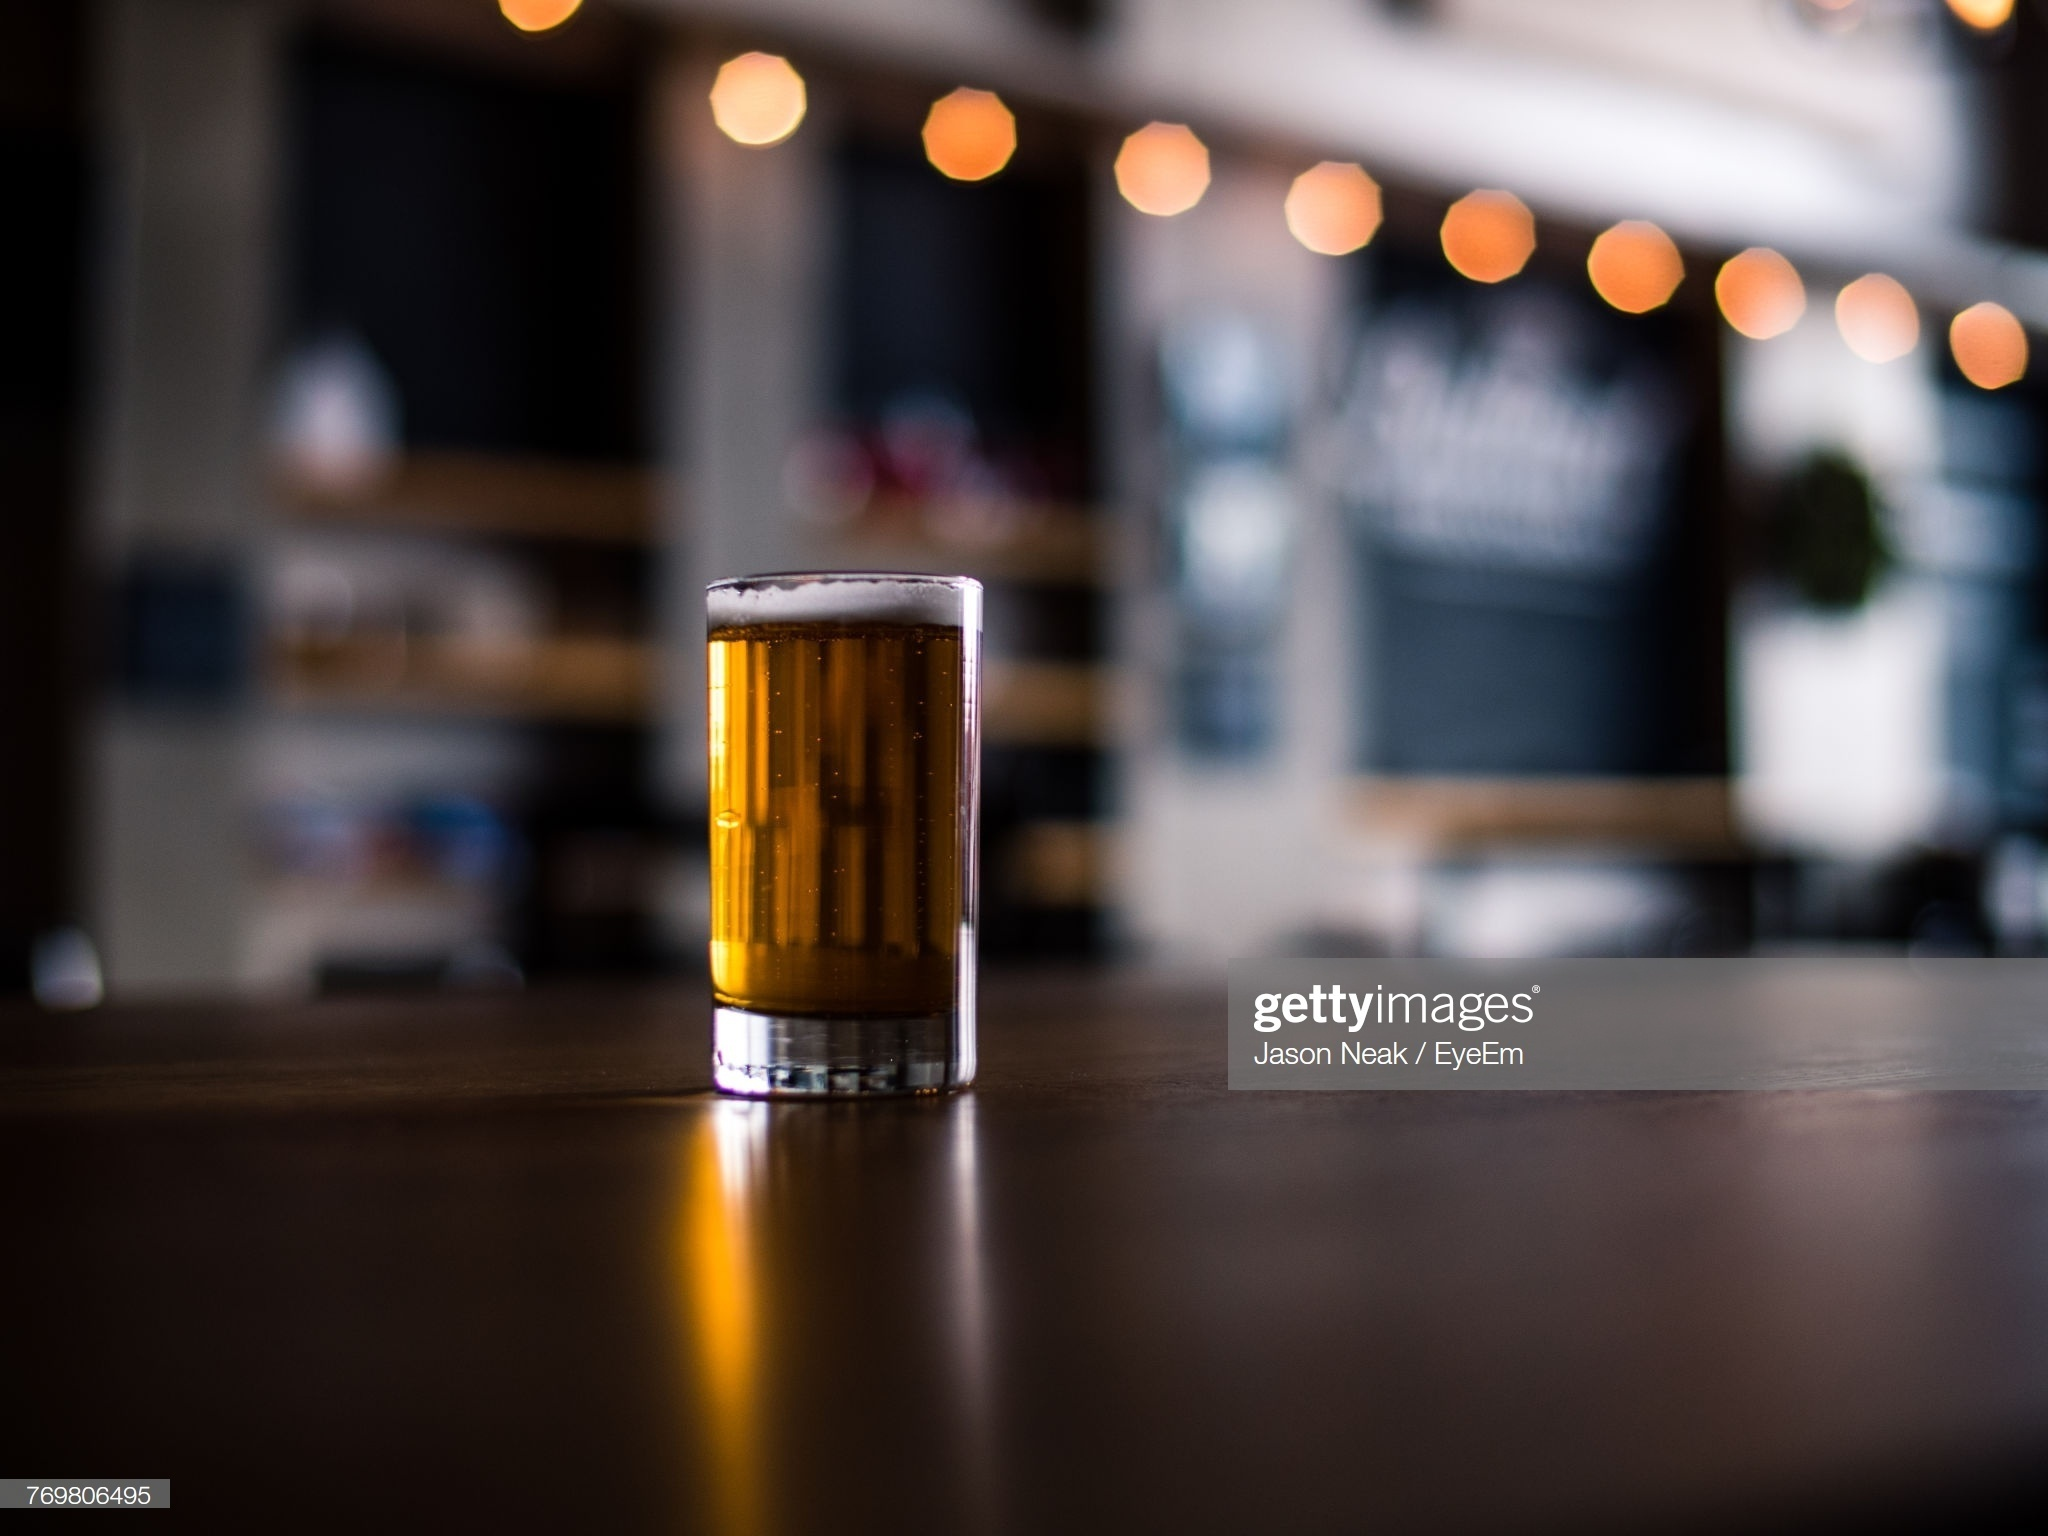whiskey: (693, 579, 1000, 1094)
